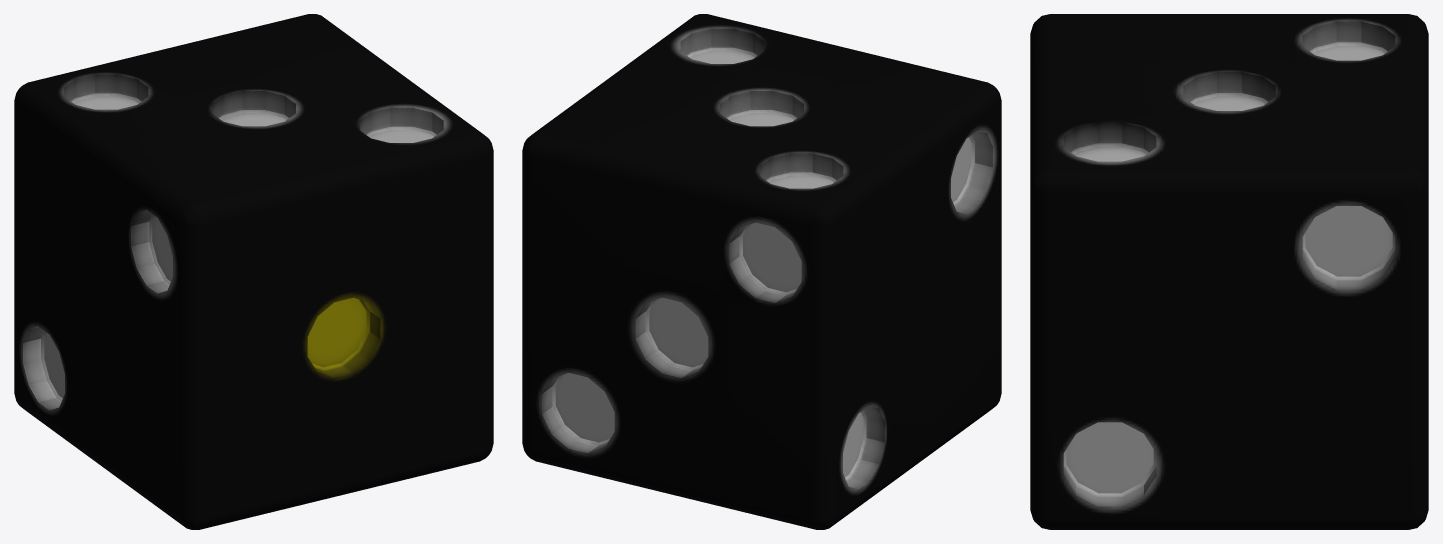
Rendered from さいころ(b_123).fbx.
3 renders of one model, left to right at view 1: azimuth 30°, elevation 25°; view 2: azimuth 150°, elevation 25°; view 3: azimuth 270°, elevation 25°, orthographic. The views are drawn at different scales.
Parts seen in each view (by area): view 1: polySurface2; view 2: polySurface2; view 3: polySurface2.
Part boxes in pixels (left/top/right/bottom): polySurface2: left=14, top=14, right=493, bottom=529; polySurface2: left=522, top=14, right=1001, bottom=529; polySurface2: left=1030, top=14, right=1428, bottom=529.
Bounding box in the file's own units: 1 × 1 × 1.
Materials: 1 (1 with a texture image).
